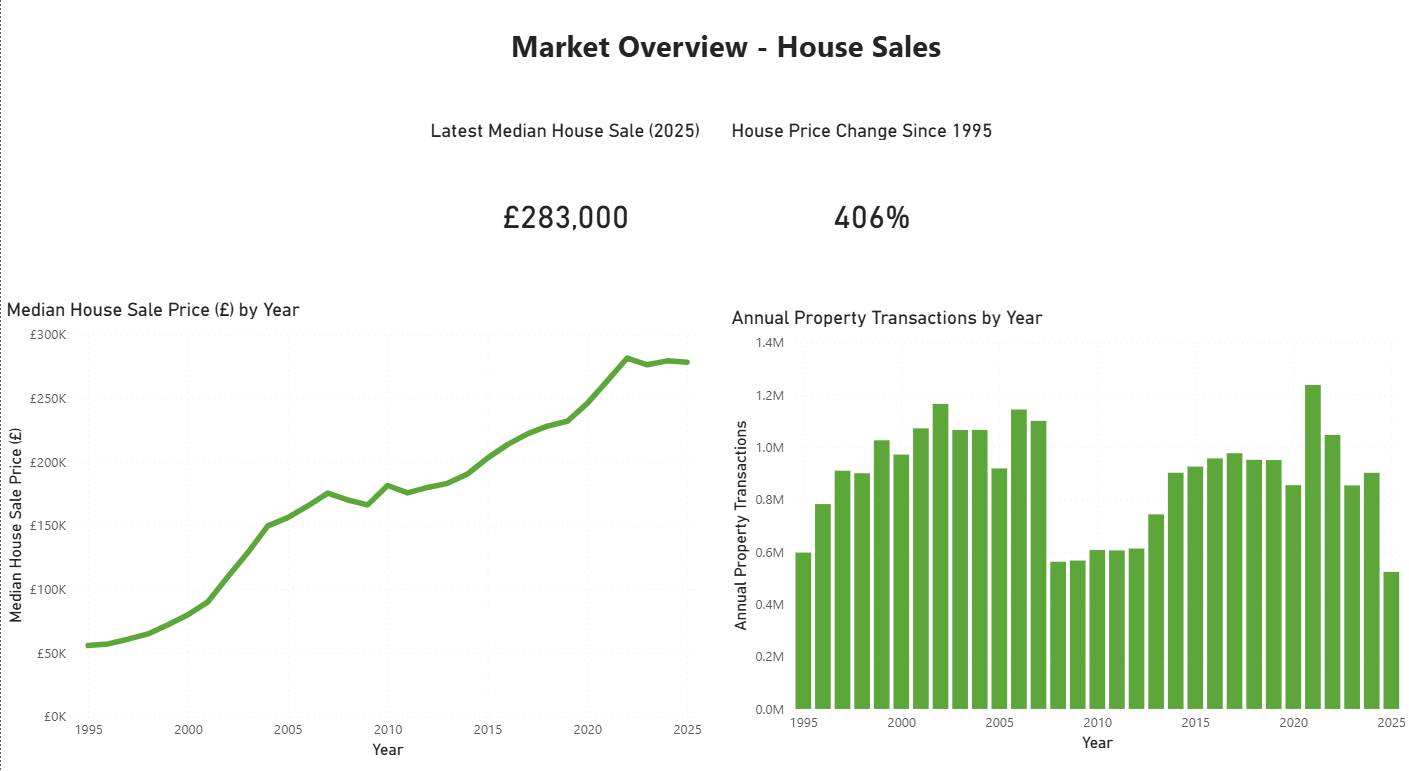

Layout of this report page (visuals, bound fields, positions):
{"tool":"powerbi","page":{"name":"Page 1","canvas":[1280,720],"ordinal":0},"visuals":[{"type":"card","title":"Latest Median House Sale (2025)","fields":{"Values":["Avg(house_data v_median_price_per_year.median_price)"]},"box":[384.5,127.9,255.7,155.1],"z":0},{"type":"lineChart","fields":{"Y":["Avg(house_data v_median_price_per_month_year.median_price)"],"Category":["house_data v_median_price_per_month_year.year"]},"box":[0,290.2,640.2,422.6],"z":1000},{"type":"clusteredColumnChart","fields":{"Y":["Sum(house_data v_total_sales_per_district_year.total_house_sales)"],"Category":["house_data v_total_sales_per_district_year.year"]},"box":[657.6,297.5,622.4,408.4],"z":2000},{"type":"card","title":"House Price Change Since 1995","fields":{"Values":["house_data v_median_price_per_year.Price Change Since 1995"]},"box":[657.4,127.9,264.8,155.1],"z":3000},{"type":"textbox","box":[445.2,38.1,424.4,71.6],"z":4000}]}

Visuals, with their boxes in screenshot pixels (x1, y1, x2, y2), scaled from the page's 1280x720 canvas onto the 1409x771 screenshot:
"Latest Median House Sale (2025)" card: region(423, 137, 705, 303)
lineChart - Avg(house_data v_median_price_per_month_year.median_price) x house_data v_median_price_per_month_year.year: region(0, 311, 705, 763)
clusteredColumnChart - Sum(house_data v_total_sales_per_district_year.total_house_sales) x house_data v_total_sales_per_district_year.year: region(724, 319, 1408, 756)
"House Price Change Since 1995" card: region(724, 137, 1015, 303)
textbox: region(490, 41, 957, 117)
